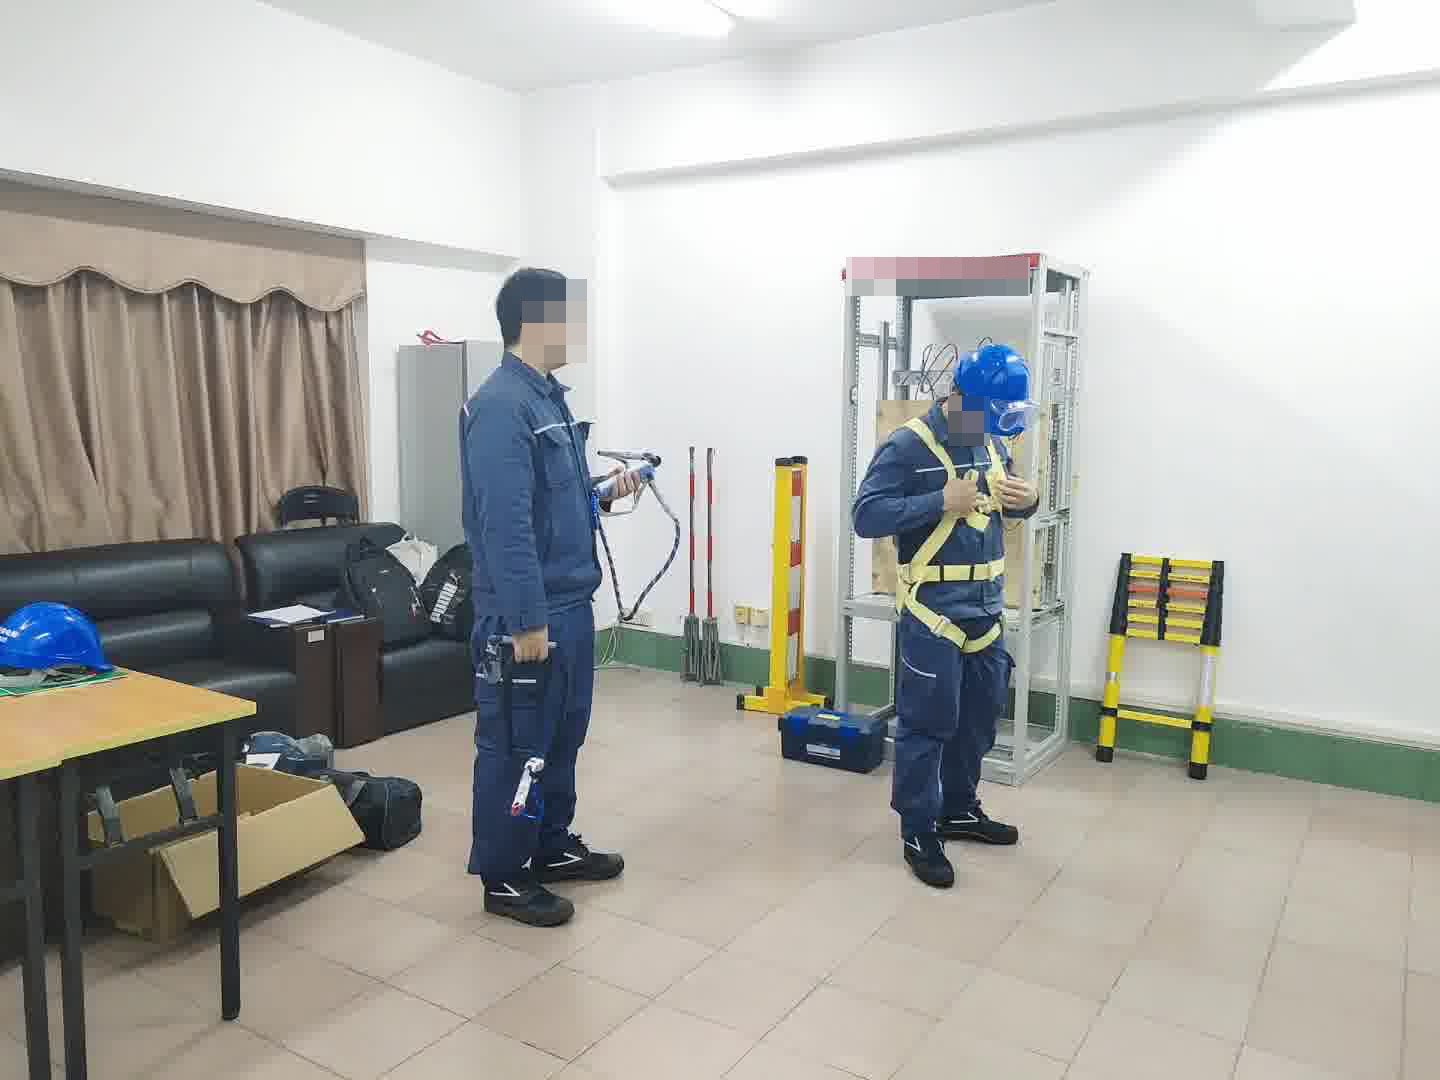downsuit: (469, 631, 595, 868), (890, 613, 1013, 828)
halt: (942, 338, 1033, 439)
hand: (594, 461, 643, 510), (998, 471, 1039, 523), (943, 472, 981, 523), (513, 627, 548, 665)
inear: (938, 389, 971, 419)
noear: (522, 307, 561, 353)
person: (457, 262, 627, 932), (854, 336, 1043, 890)
safebelt: (886, 419, 1017, 655)
unhalt: (491, 266, 586, 369)
upsuit: (461, 364, 602, 608), (848, 409, 1015, 598)
